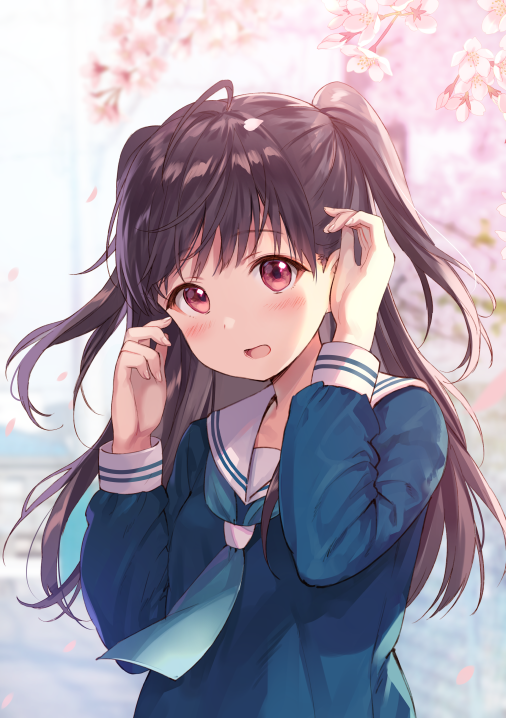纸片人正脸: (104, 77, 411, 388)
